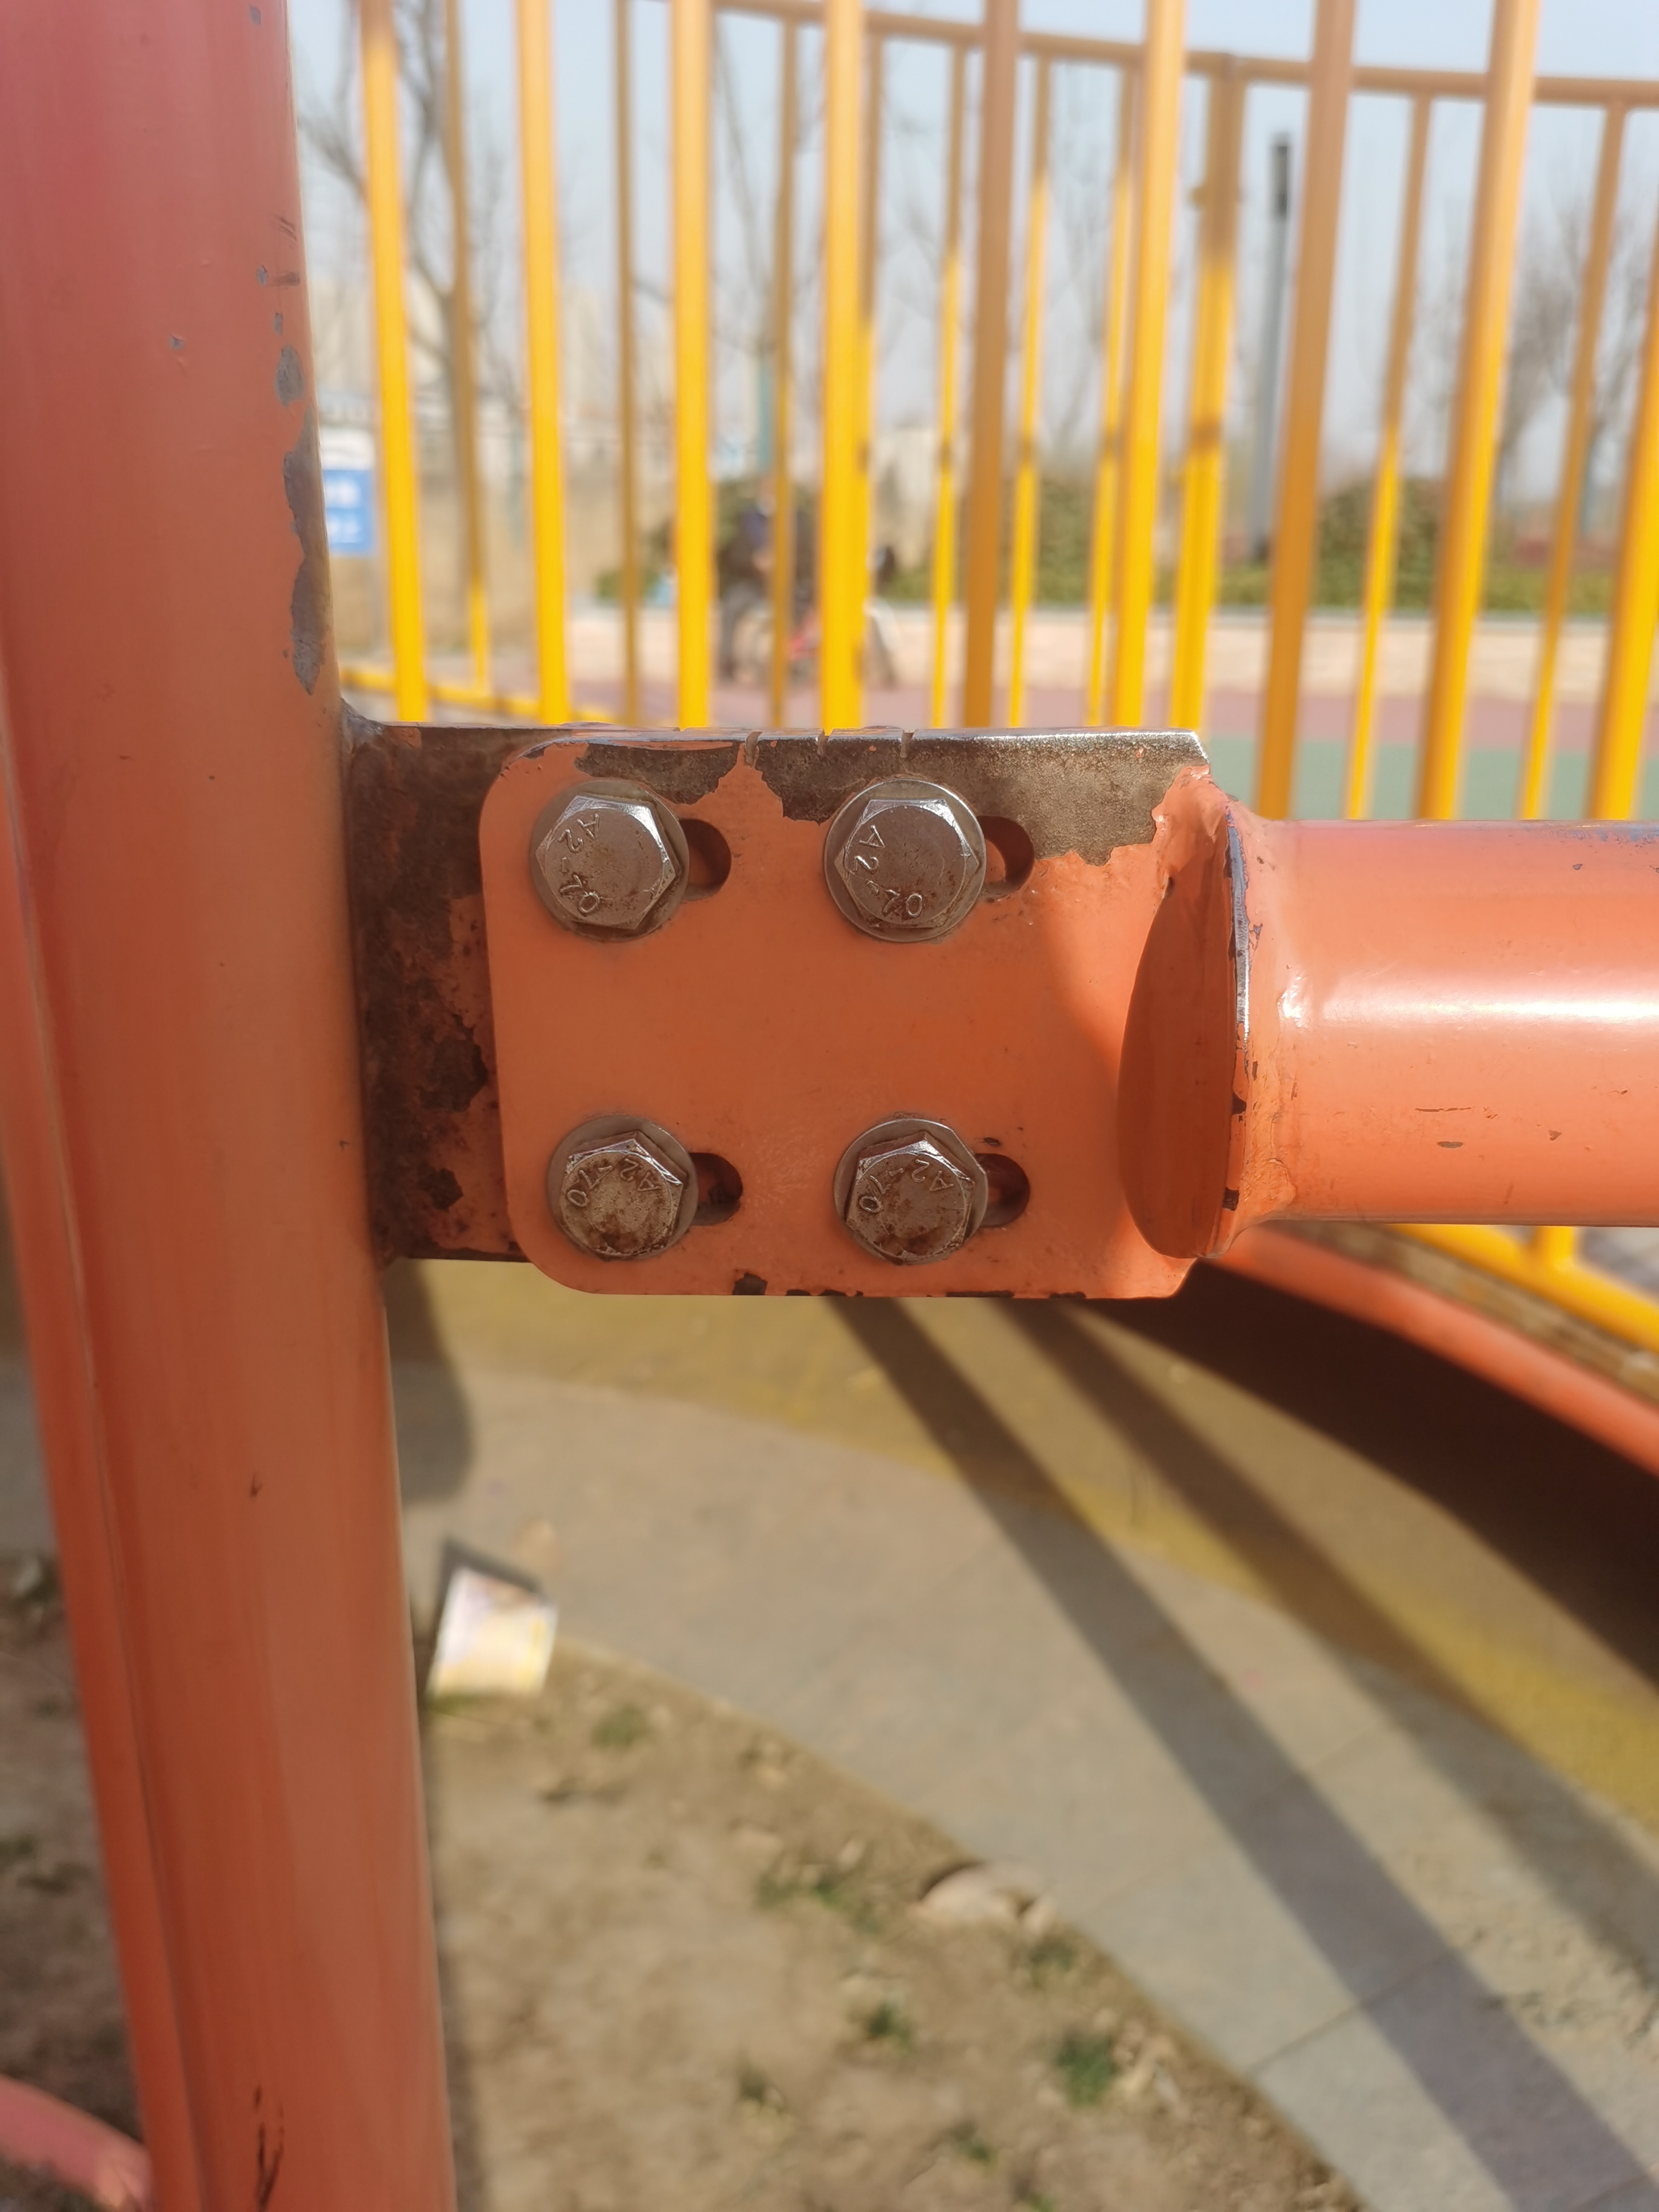bolt_a: (526, 779, 685, 944), (828, 789, 983, 935), (547, 1122, 694, 1266), (840, 1123, 981, 1271)
